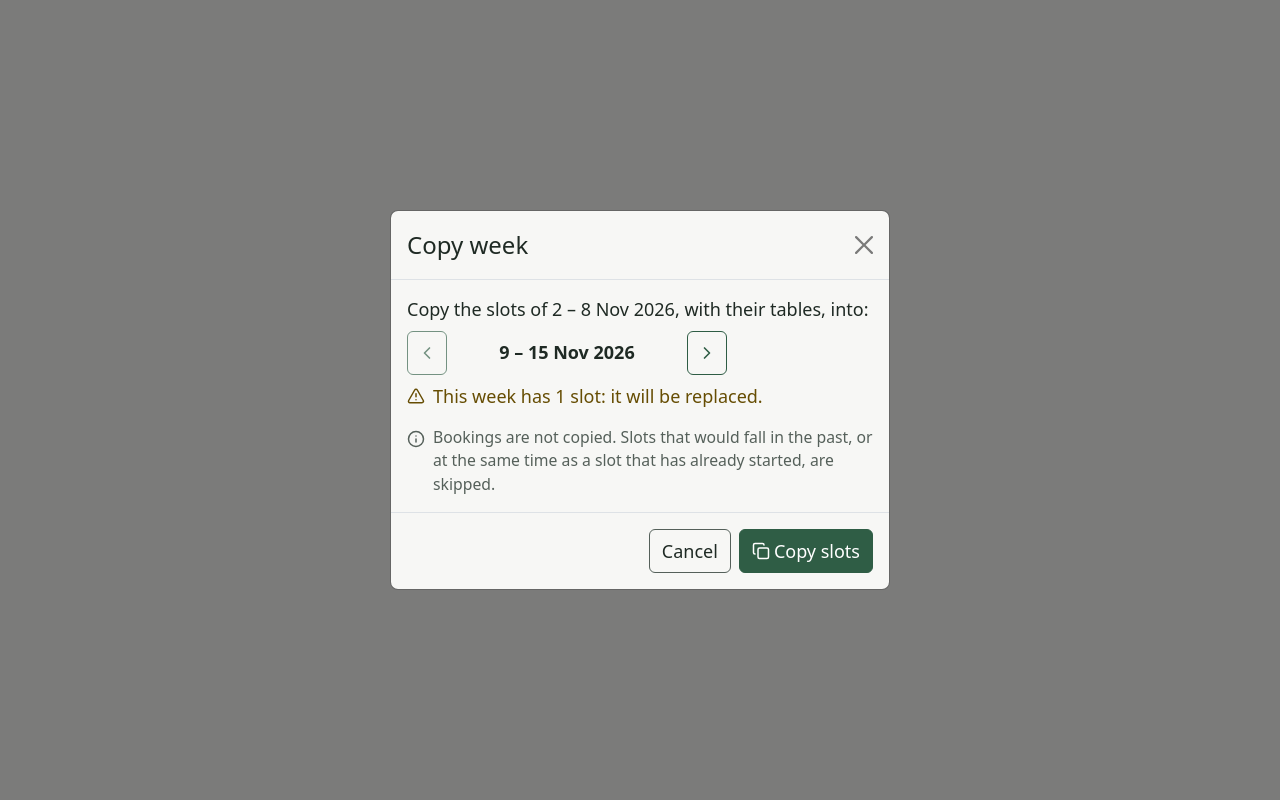
it: CopyWeekDialog › a 409 (the target week has bookings) is shown under the picker, with the focus, and blocks that week
The width and height of the screenshot is (1280, 800).
Click the button "Copy slots" at (806, 551), box 739,529 -> 873,573
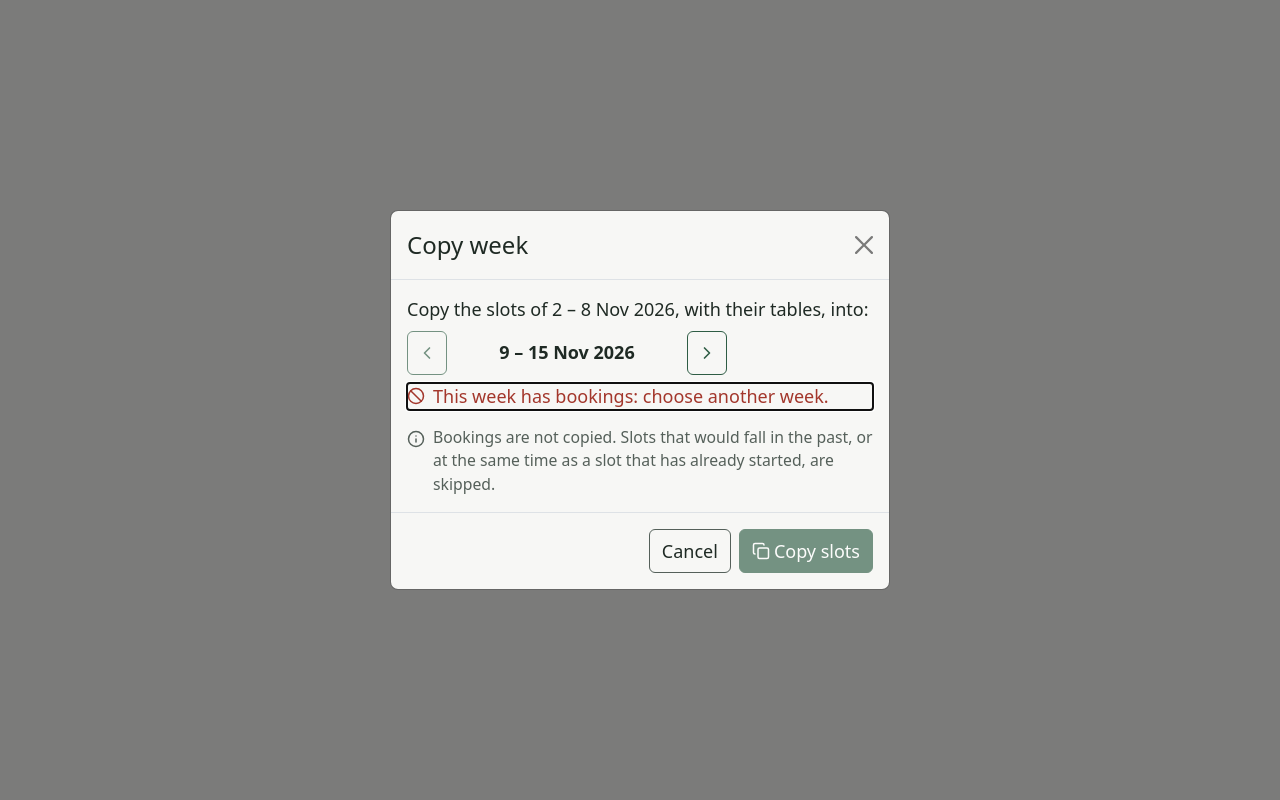
Now the text "will be replaced" is gone
Now the button "Copy slots" is disabled, box 739,529 -> 873,573
Click the button named "Next week" at (707, 353), box 687,331 -> 727,375
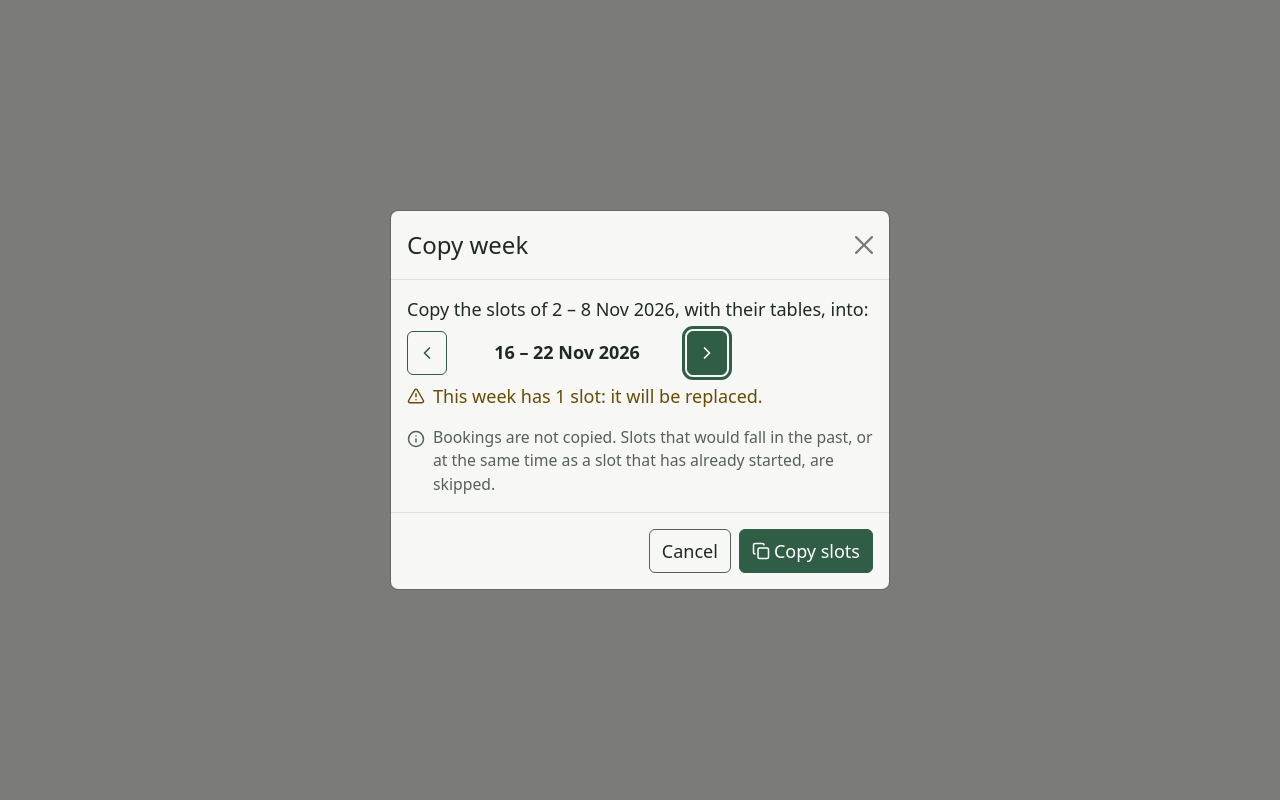
Now the text "has bookings" is gone
Now the button "Copy slots" is enabled, box 739,529 -> 873,573
Click the button named "Previous week" at (427, 353), box 407,331 -> 447,375
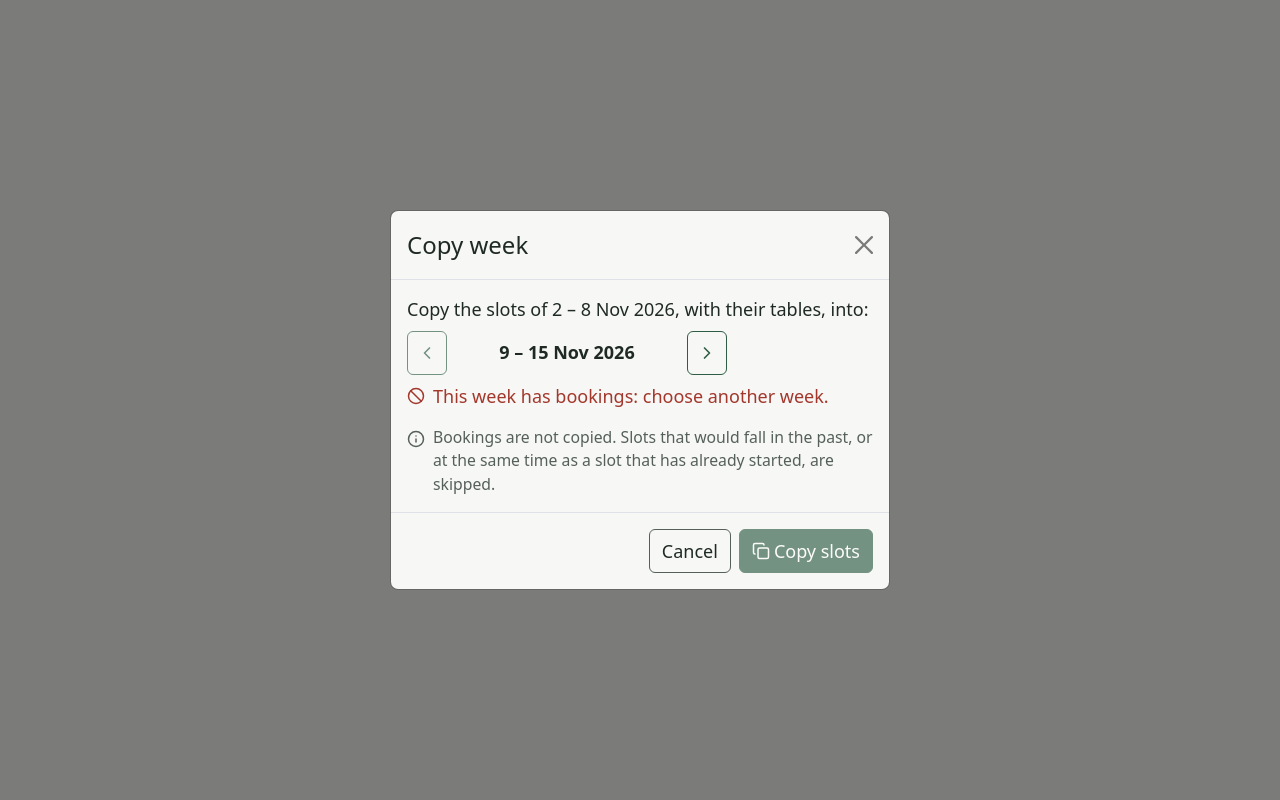
Now the text "This week has bookings: choose another week." is shown, box 407,383 -> 873,410
Now the button "Copy slots" is disabled, box 739,529 -> 873,573
